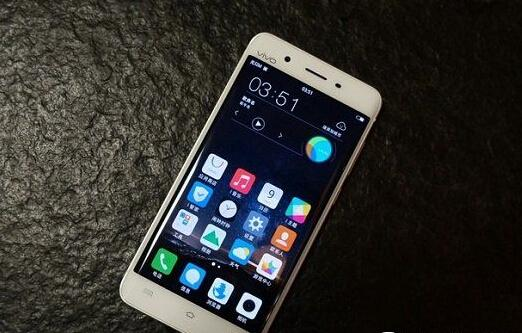phone: (134, 83, 384, 309)
